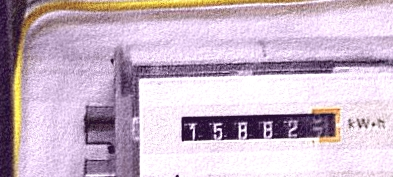1: (188, 121, 197, 139)
2: (287, 118, 299, 138)
5: (210, 121, 224, 140)
7: (311, 124, 323, 137)
8: (261, 118, 274, 139), (237, 120, 249, 140)
screen: (175, 106, 345, 149)
